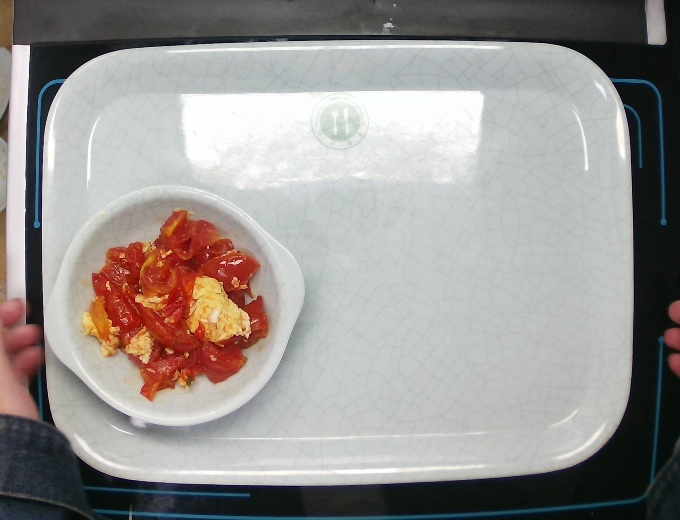JYsf-Shuang_Er_Wan: (42, 182, 308, 429)
